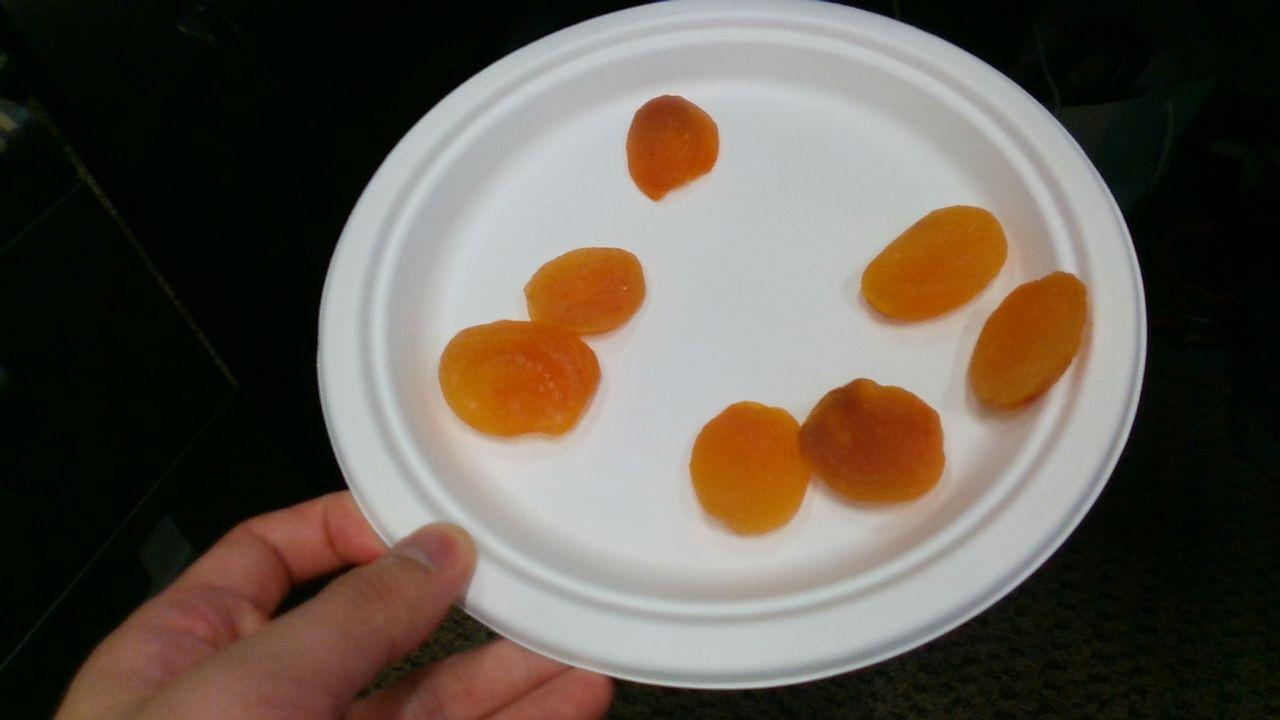apricot: (440, 320, 600, 436), (801, 379, 944, 504), (690, 401, 812, 533), (862, 207, 1008, 317), (970, 274, 1086, 406), (526, 248, 646, 335), (629, 96, 719, 202)
plate: (320, 1, 1145, 685)
